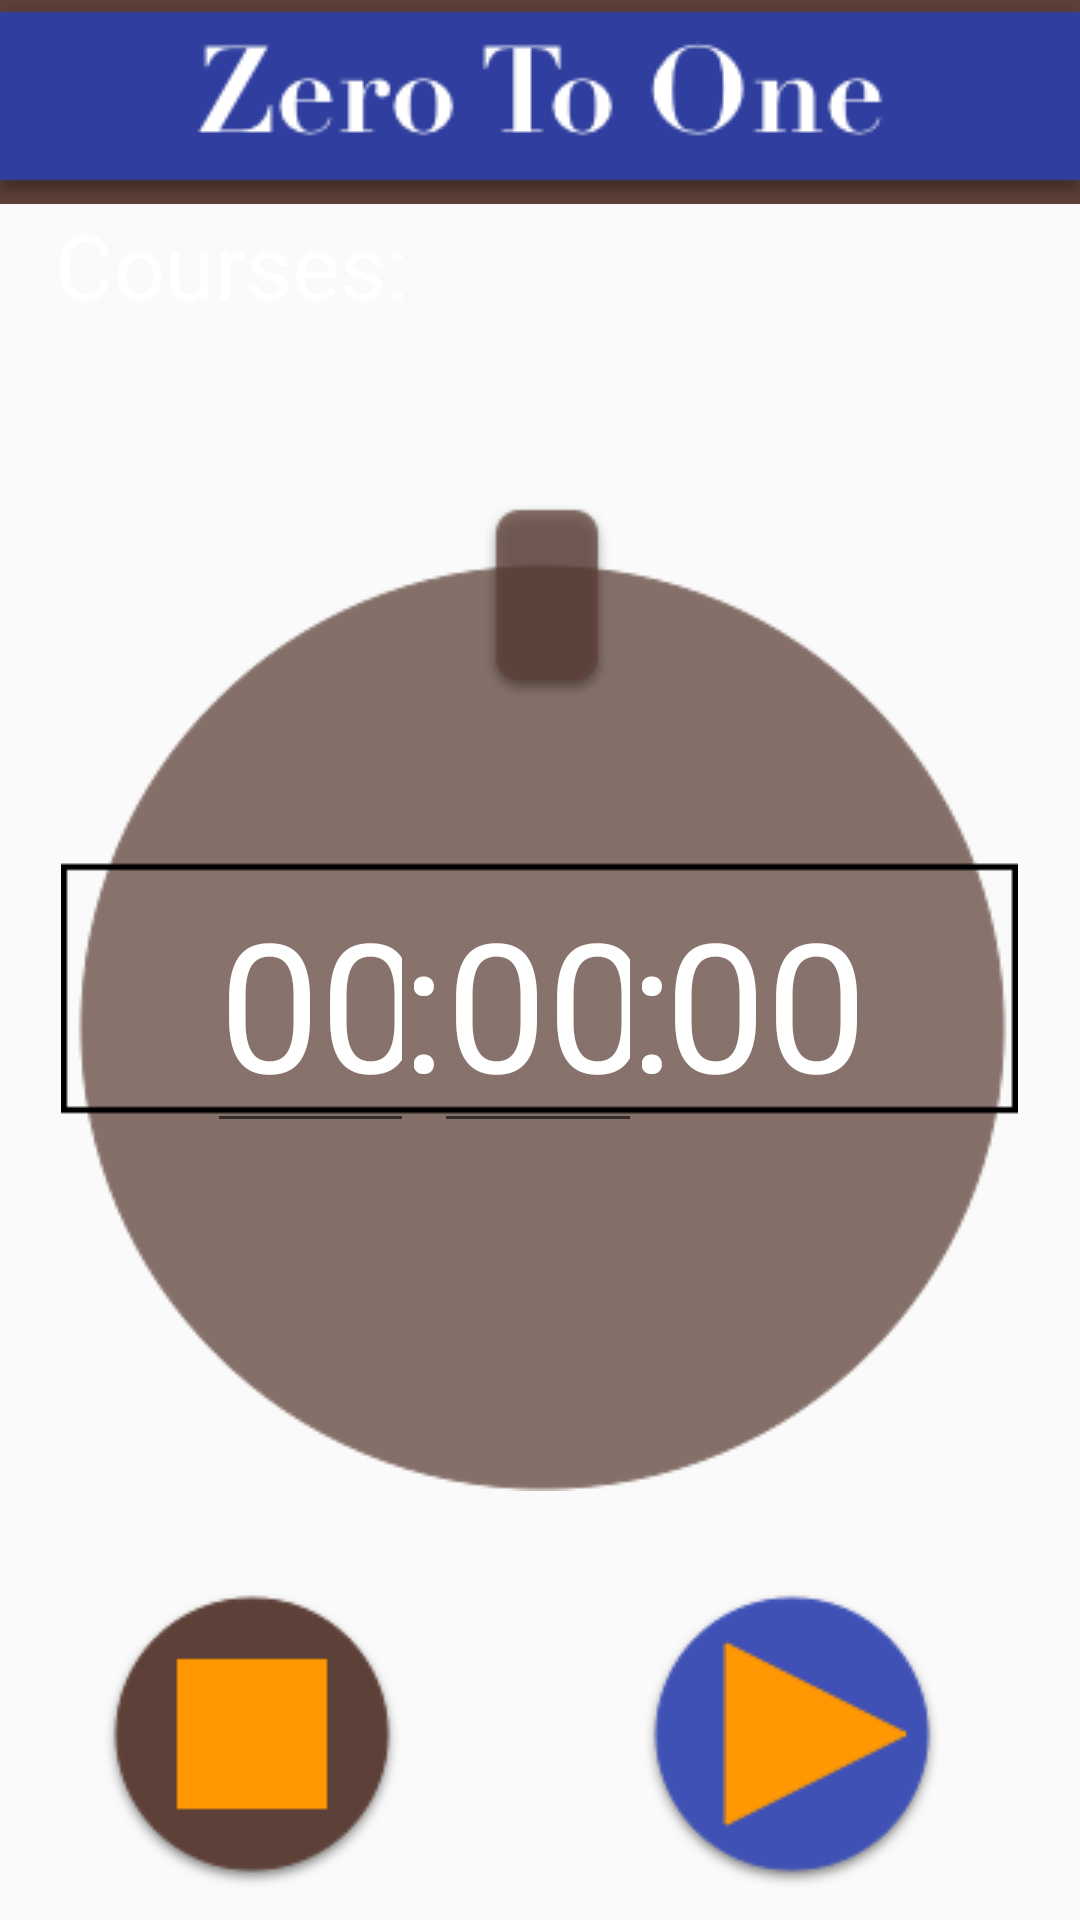

Named icons in this screenshot (1080 x 1920) and their bounding boxes, BBox(x1, y1, x2, y2):
playbutton: BBox(651, 1595, 933, 1881)
stopbutton: BBox(111, 1595, 393, 1881)
